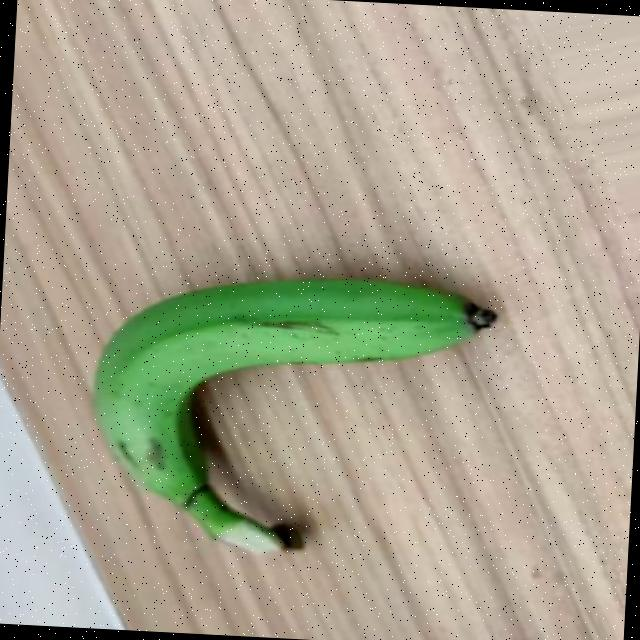Unripe: (85, 264, 499, 567)
